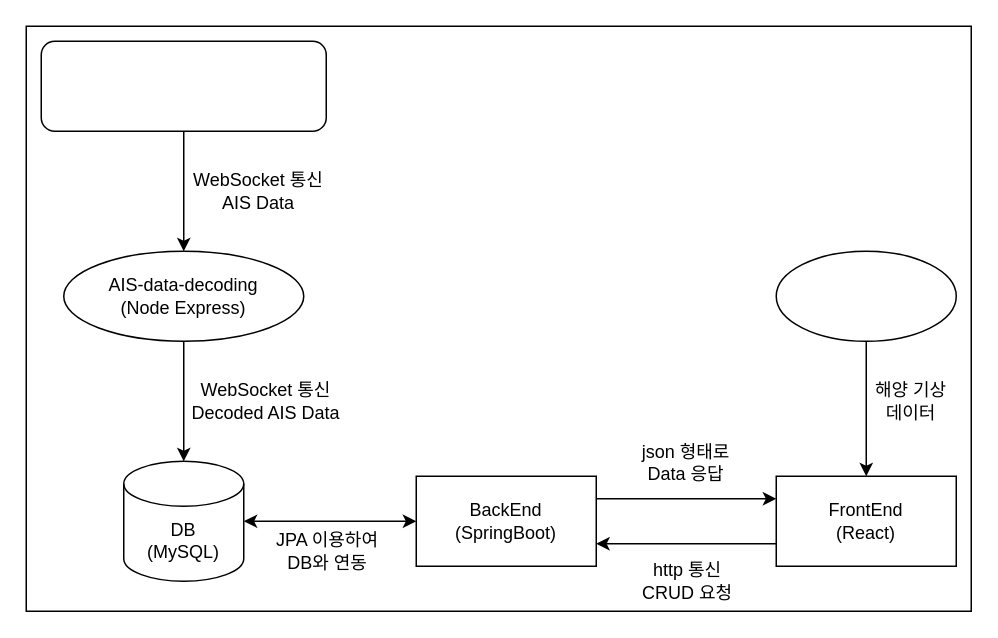
The diagram is 998 pixels wide and 638 high, and some of its shapes have lost their labels. The shapes that lost their labels are listed below. From the top down, each one's centre as x and y in pixels, then its label:
At pixel 183 85: "VesselSignalProcessor (GC 제공 AIS 신호 수신 프로그램)".
At pixel 865 295: "해양 수산부 Open API".
